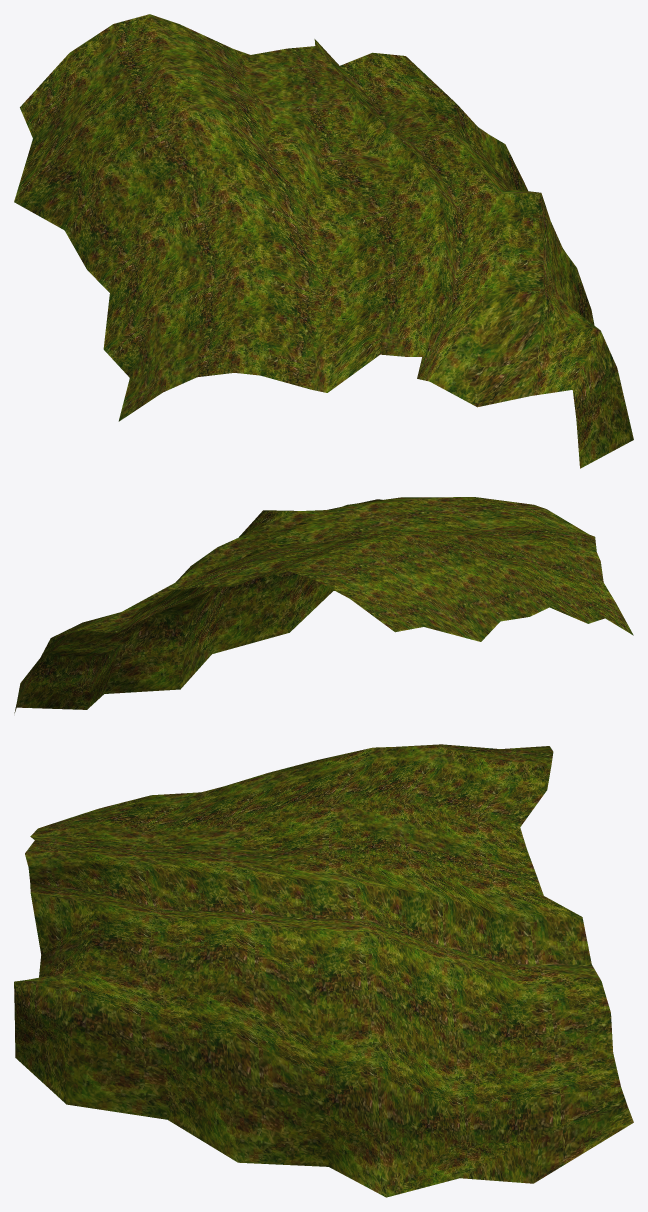
Rendered from TROLLHOLE02_ZOBJECT43.fbx.
3 views of the same model, one above another, from view 1: azimuth 30°, elevation 25°; view 2: azimuth 150°, elevation 25°; view 3: azimuth 270°, elevation 25° (orthographic). The views are drawn at different scales.
Parts seen in each view (by area): view 1: TROLLHOLE02_ZOBJECT43; view 2: TROLLHOLE02_ZOBJECT43; view 3: TROLLHOLE02_ZOBJECT43.
Boxes of the visible parts, bbox=[...] form: TROLLHOLE02_ZOBJECT43: bbox=[14, 14, 633, 468]; TROLLHOLE02_ZOBJECT43: bbox=[14, 497, 633, 713]; TROLLHOLE02_ZOBJECT43: bbox=[14, 744, 633, 1197].
Bounding box in the file's own units: 306695 × 148389 × 293991.
1 material, 1 textured.
